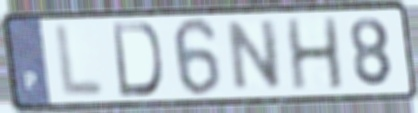6: (170, 15, 224, 99)
8: (348, 15, 396, 89)
D: (110, 20, 166, 99)
H: (283, 14, 347, 93)
L: (53, 21, 108, 100)
N: (226, 17, 285, 94)
